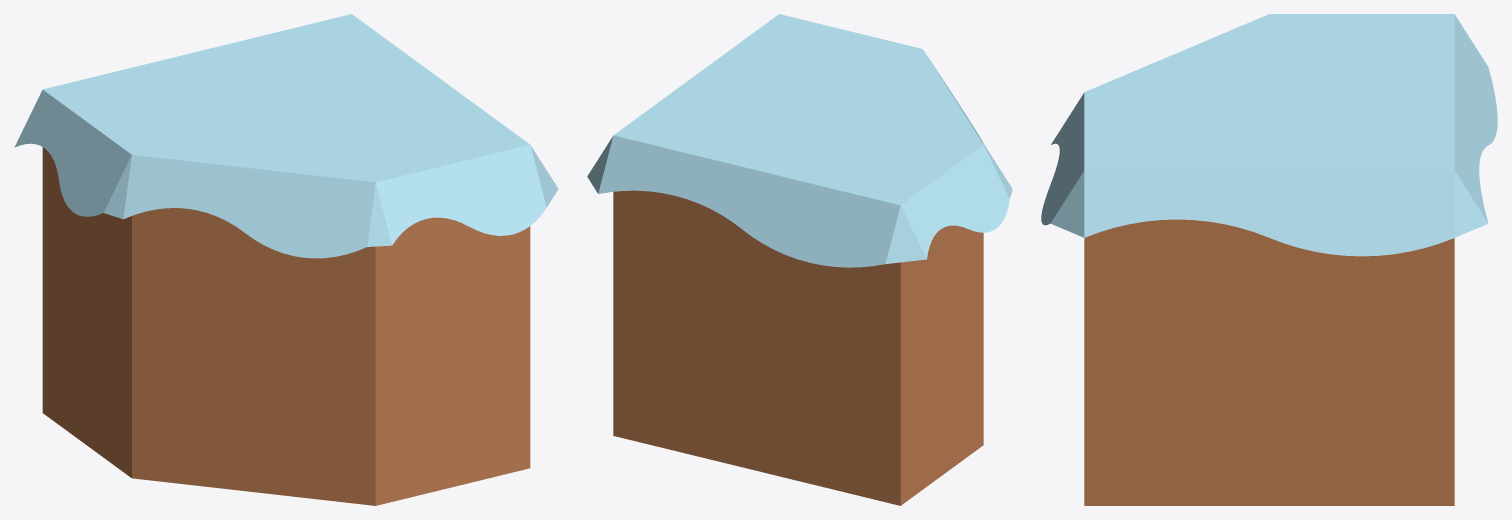
The model's file is blockSnowCornerSmall.fbx.
The picture shows the model from 3 angles, left to right: view 1: azimuth 30°, elevation 25°; view 2: azimuth 150°, elevation 25°; view 3: azimuth 270°, elevation 25°; orthographic projection. The views are drawn at different scales.
Parts seen in each view (by area): view 1: blockSnowCornerSmall; view 2: blockSnowCornerSmall; view 3: blockSnowCornerSmall.
Part boxes in pixels (x1,y1,x2,y2): blockSnowCornerSmall: [14, 14, 558, 505]; blockSnowCornerSmall: [587, 14, 1012, 505]; blockSnowCornerSmall: [1041, 14, 1497, 505].
Bounding box in the file's own units: 12.33 × 10 × 12.33.
